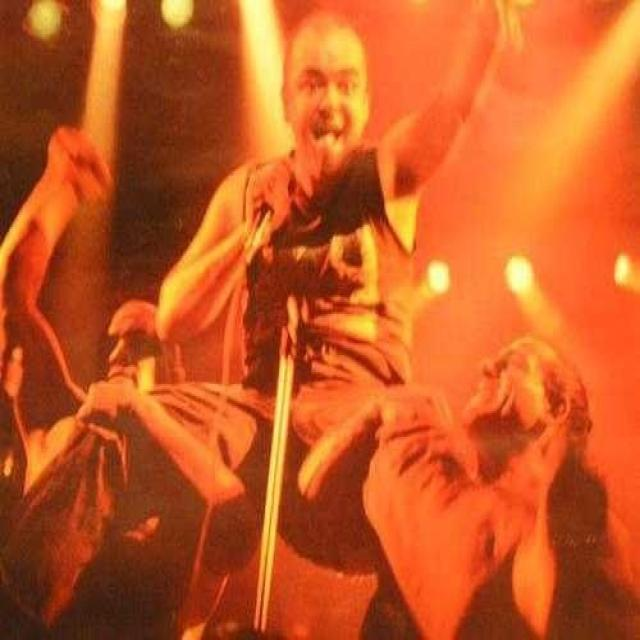microphone: (242, 150, 306, 264)
